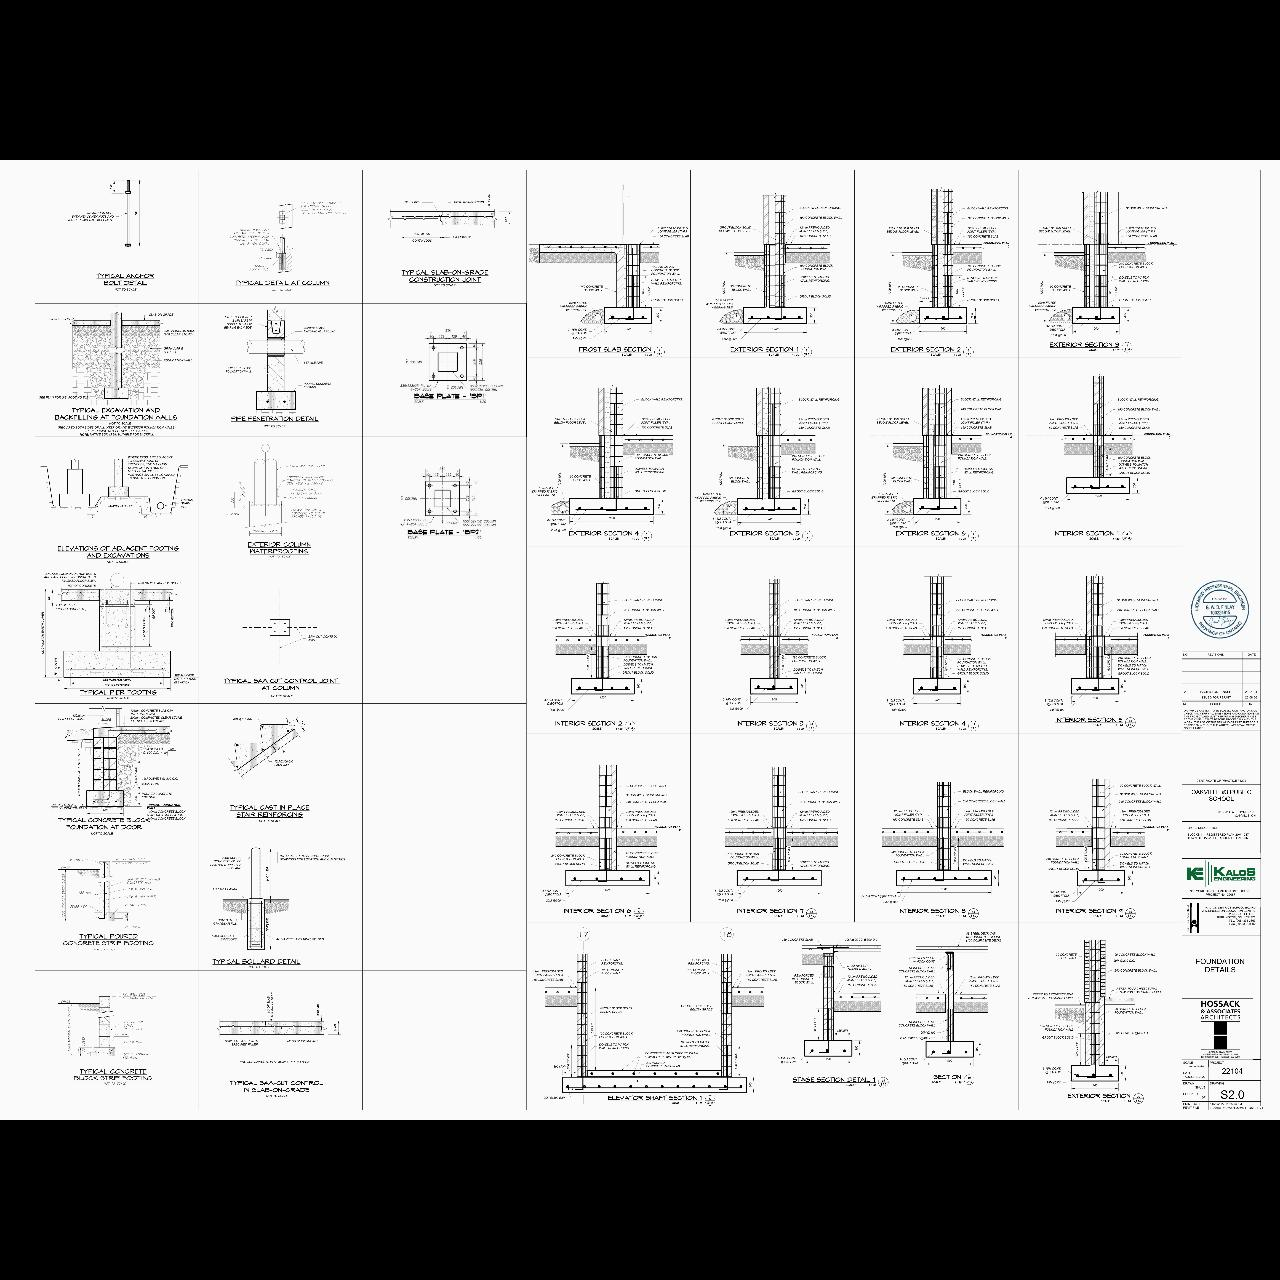title: (222, 675, 342, 699), (50, 407, 184, 425), (55, 544, 181, 564), (229, 1078, 326, 1099), (62, 932, 156, 953), (57, 817, 152, 836), (229, 803, 312, 823), (607, 1092, 717, 1107), (72, 1068, 154, 1087), (232, 278, 332, 293), (792, 1074, 890, 1088), (245, 540, 313, 559), (230, 415, 320, 429), (1048, 340, 1133, 354), (406, 527, 484, 543), (210, 956, 302, 969), (96, 272, 156, 292), (1053, 715, 1137, 729), (553, 719, 636, 733), (577, 346, 667, 359), (735, 719, 817, 733), (888, 345, 975, 358), (894, 530, 980, 543), (568, 529, 654, 542), (729, 345, 813, 358), (1053, 906, 1137, 919), (563, 906, 646, 919), (736, 906, 818, 919), (1053, 529, 1133, 542), (1065, 1091, 1145, 1104), (728, 530, 813, 542), (898, 720, 980, 731), (897, 907, 979, 919), (79, 689, 159, 701), (930, 1073, 976, 1085)
